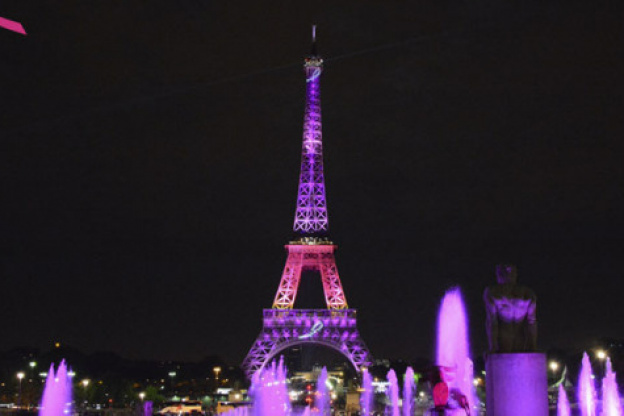eiffel tower: (223, 17, 390, 384)
